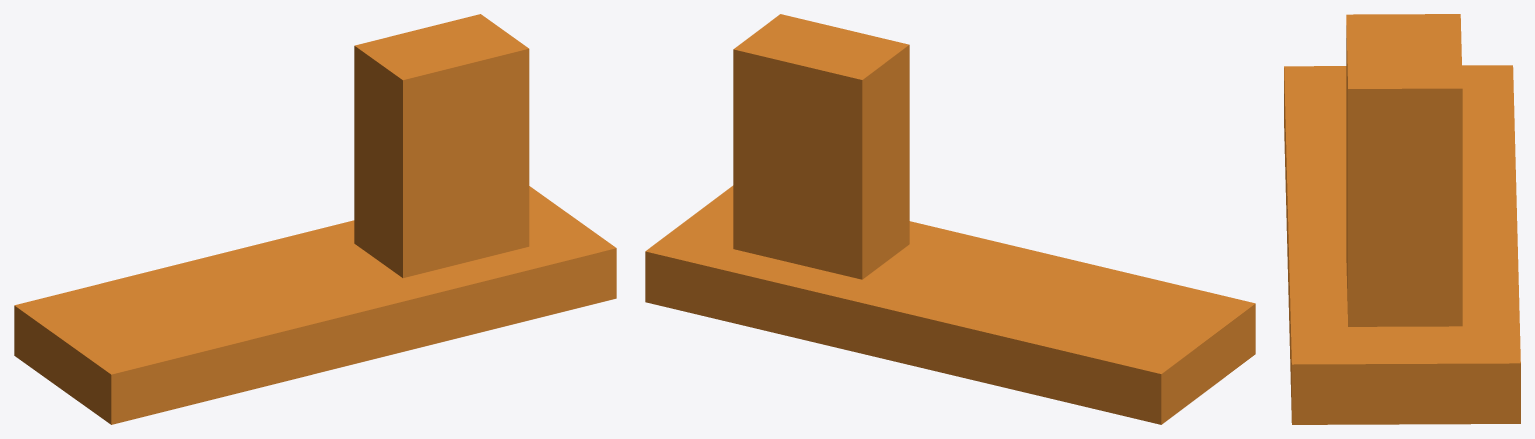
Rendered from TestNone.fbx.
The picture shows the model from 3 angles, left to right: view 1: azimuth 30°, elevation 25°; view 2: azimuth 150°, elevation 25°; view 3: azimuth 270°, elevation 25°; orthographic projection. The views are drawn at different scales.
Visible parts, largest first — view 1: 立方体; view 2: 立方体; view 3: 立方体.
Boxes of the visible parts, left/top/right/bottom form: 立方体: left=14, top=14, right=616, bottom=424; 立方体: left=645, top=14, right=1255, bottom=424; 立方体: left=1284, top=14, right=1520, bottom=424.
Size of the model in its own units: 6.36 by 2.95 by 2.12.
